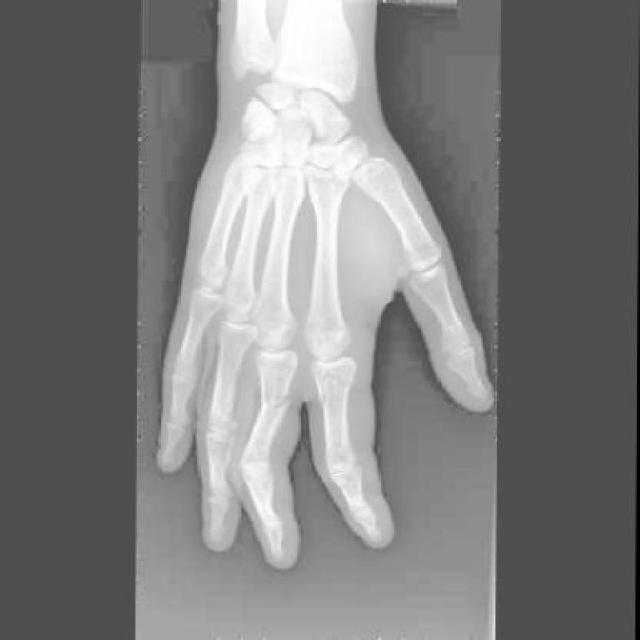Fracture: (311, 369, 351, 411), (257, 388, 291, 416)
